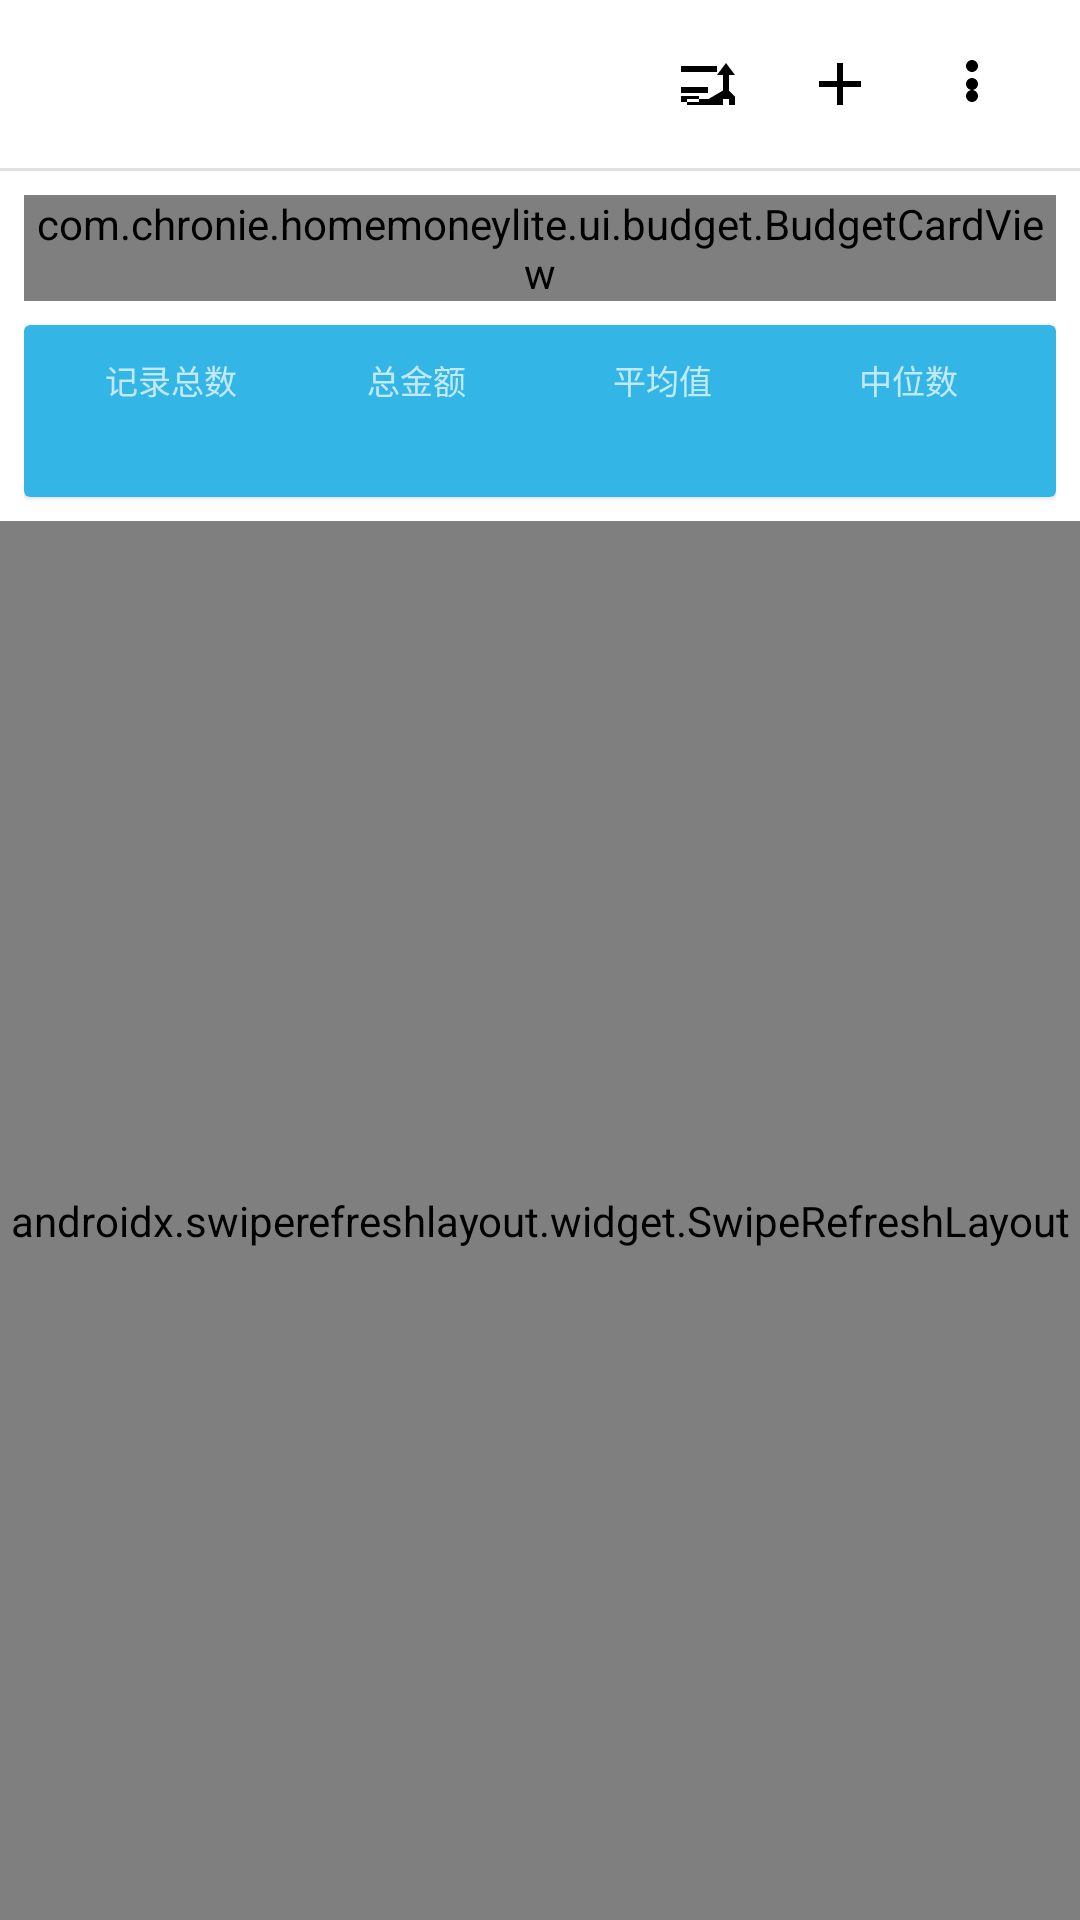

Point at icon controls on the screen. Image size 1080 × 1920, points as point (x, y).
排序: point (708, 84)
更多功能: point (972, 81)
记一笔: point (840, 84)
